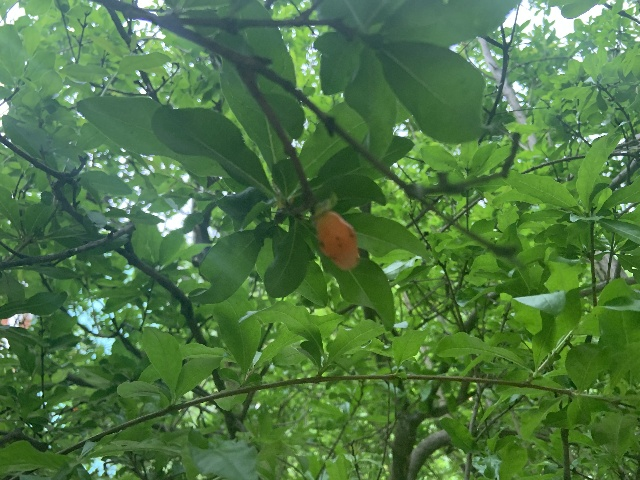bud: (315, 210, 359, 271)
